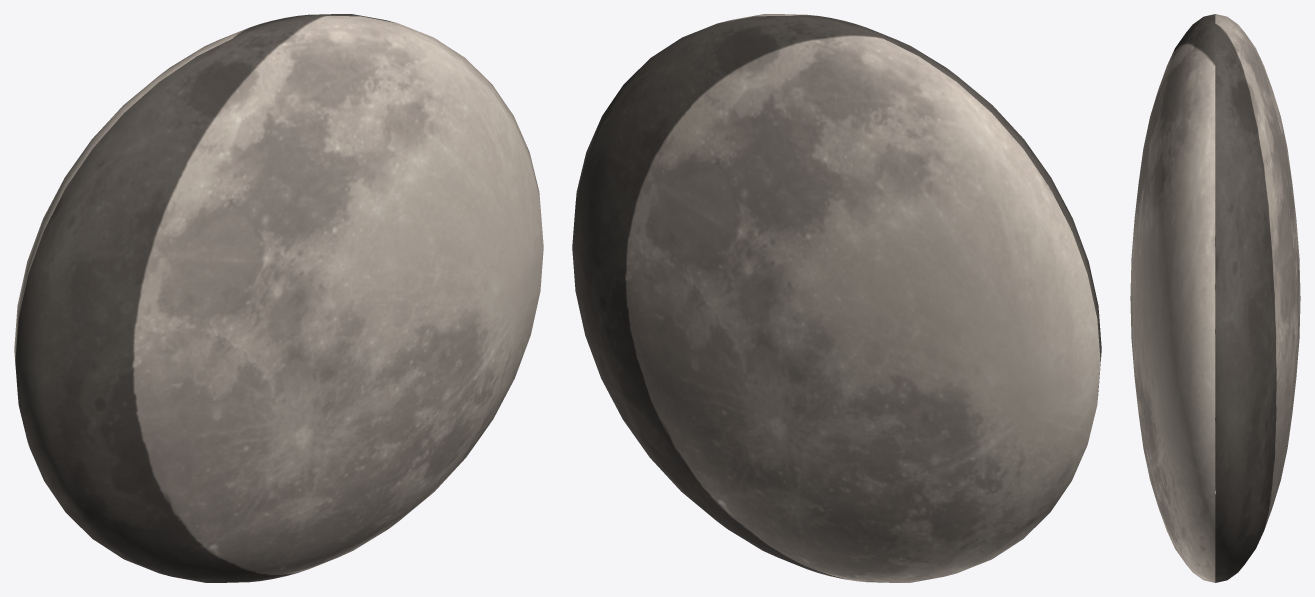
Rendered from SM_MoonPhase4_WaxingGibbous.fbx.
The picture shows the model from 3 angles, left to right: view 1: azimuth 30°, elevation 25°; view 2: azimuth 150°, elevation 25°; view 3: azimuth 270°, elevation 25°; orthographic projection. The views are drawn at different scales.
Visible parts, largest first — view 1: pSphere3; view 2: pSphere3; view 3: pSphere3.
Boxes of the visible parts, x1,y1,x2,y2 form: pSphere3: [14, 14, 543, 582]; pSphere3: [572, 14, 1101, 582]; pSphere3: [1130, 14, 1300, 582].
Size of the model in its own units: 158 by 158 by 47.13.
